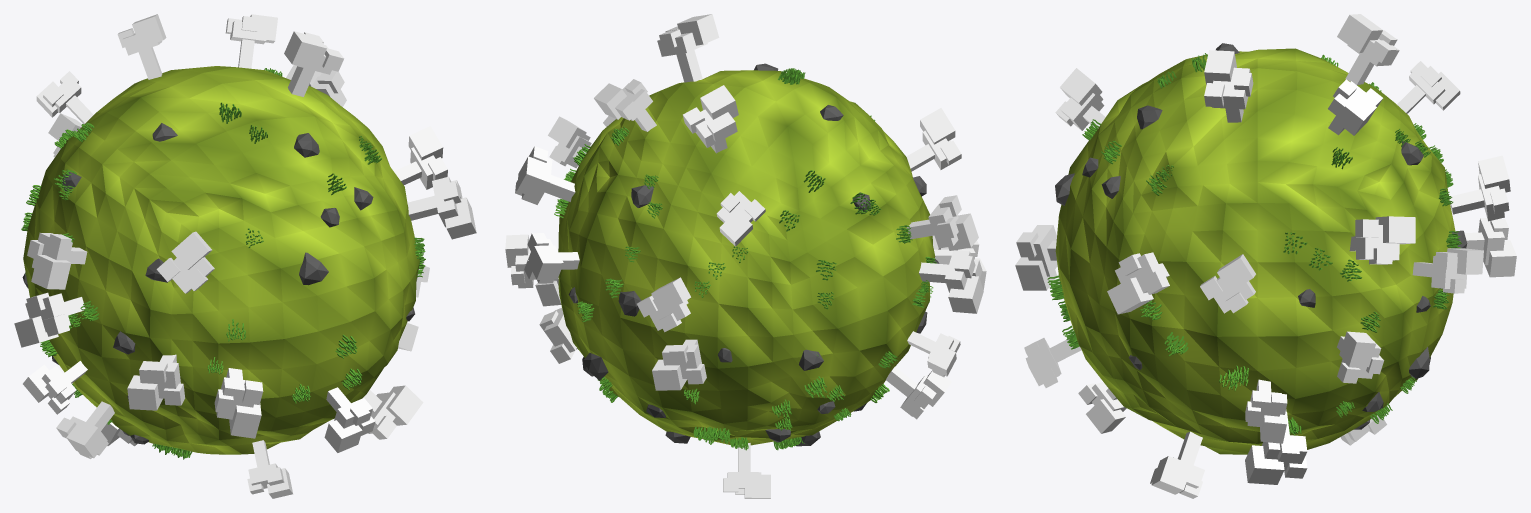
File: Planet #5053.fbx
The picture shows the model from 3 angles, left to right: view 1: azimuth 30°, elevation 25°; view 2: azimuth 150°, elevation 25°; view 3: azimuth 270°, elevation 25°; orthographic projection. The views are drawn at different scales.
Visible parts, largest first — view 1: Planet__5053, Cube__1__20, Cube__1__7, Cube__1__13, Cube__1__3, Cube__1__12, Cube__1__22, Cube__1__8, Cube__1__4, Cube__1__1, Cube__1__16, Cube__1__21 (+12 smaller); view 2: Planet__5053, Cube__1__10, Cube__1__17, Cube__1__21, Cube__1__20, Cube__1__11, Cube__1_, Cube__1__8, Cube__1__14, Cube__1__6, Cube__1__18, Cube_19 (+13 smaller); view 3: Planet__5053, Cube__1__19, Cube__1__11, Cube__1__3, Cube__1__2, Cube__1__4, Cube__1__18, Cube__1__10, Cube__1__22, Cube__1__20, Cube__1__16, Cube__1__8 (+17 smaller).
Boxes of the visible parts, x1,y1,x2,y2 form: Planet__5053: [23, 66, 419, 454]; Cube__1__20: [284, 31, 326, 70]; Cube__1__7: [31, 255, 71, 289]; Cube__1__13: [66, 420, 107, 458]; Cube__1__3: [386, 385, 423, 425]; Cube__1__12: [127, 375, 162, 410]; Cube__1__22: [229, 403, 261, 438]; Cube__1__8: [171, 231, 211, 269]; Cube__1__4: [444, 197, 476, 239]; Cube__1__1: [324, 420, 362, 452]; Cube__1__16: [408, 126, 443, 160]; Cube__1__21: [14, 316, 58, 347]; Planet__5053: [558, 70, 935, 445]; Cube__1__10: [517, 156, 551, 199]; Cube__1__17: [528, 245, 563, 279]; Cube__1__21: [948, 276, 983, 313]; Cube__1__20: [677, 14, 719, 45]; Cube__1__11: [700, 85, 738, 119]; Cube__1_: [651, 277, 690, 313]; Cube__1__8: [920, 108, 955, 144]; Cube__1__14: [652, 359, 687, 390]; Cube__1__6: [719, 210, 752, 246]; Cube__1__18: [594, 83, 626, 119]; Cube_19: [544, 307, 576, 352]; Planet__5053: [1055, 48, 1455, 454]; Cube__1__19: [1245, 445, 1284, 484]; Cube__1__11: [1337, 14, 1382, 52]; Cube__1__3: [1152, 456, 1191, 494]; Cube__1__2: [1339, 331, 1376, 367]; Cube__1__4: [1107, 277, 1153, 314]; Cube__1__18: [1335, 93, 1376, 135]; Cube__1__10: [1375, 216, 1415, 244]; Cube__1__22: [1015, 257, 1056, 290]; Cube__1__20: [1204, 50, 1236, 84]; Cube__1__16: [1217, 254, 1255, 292]; Cube__1__8: [1060, 68, 1102, 105].
Bounding box in the file's own units: 3830 × 3633 × 3727.
